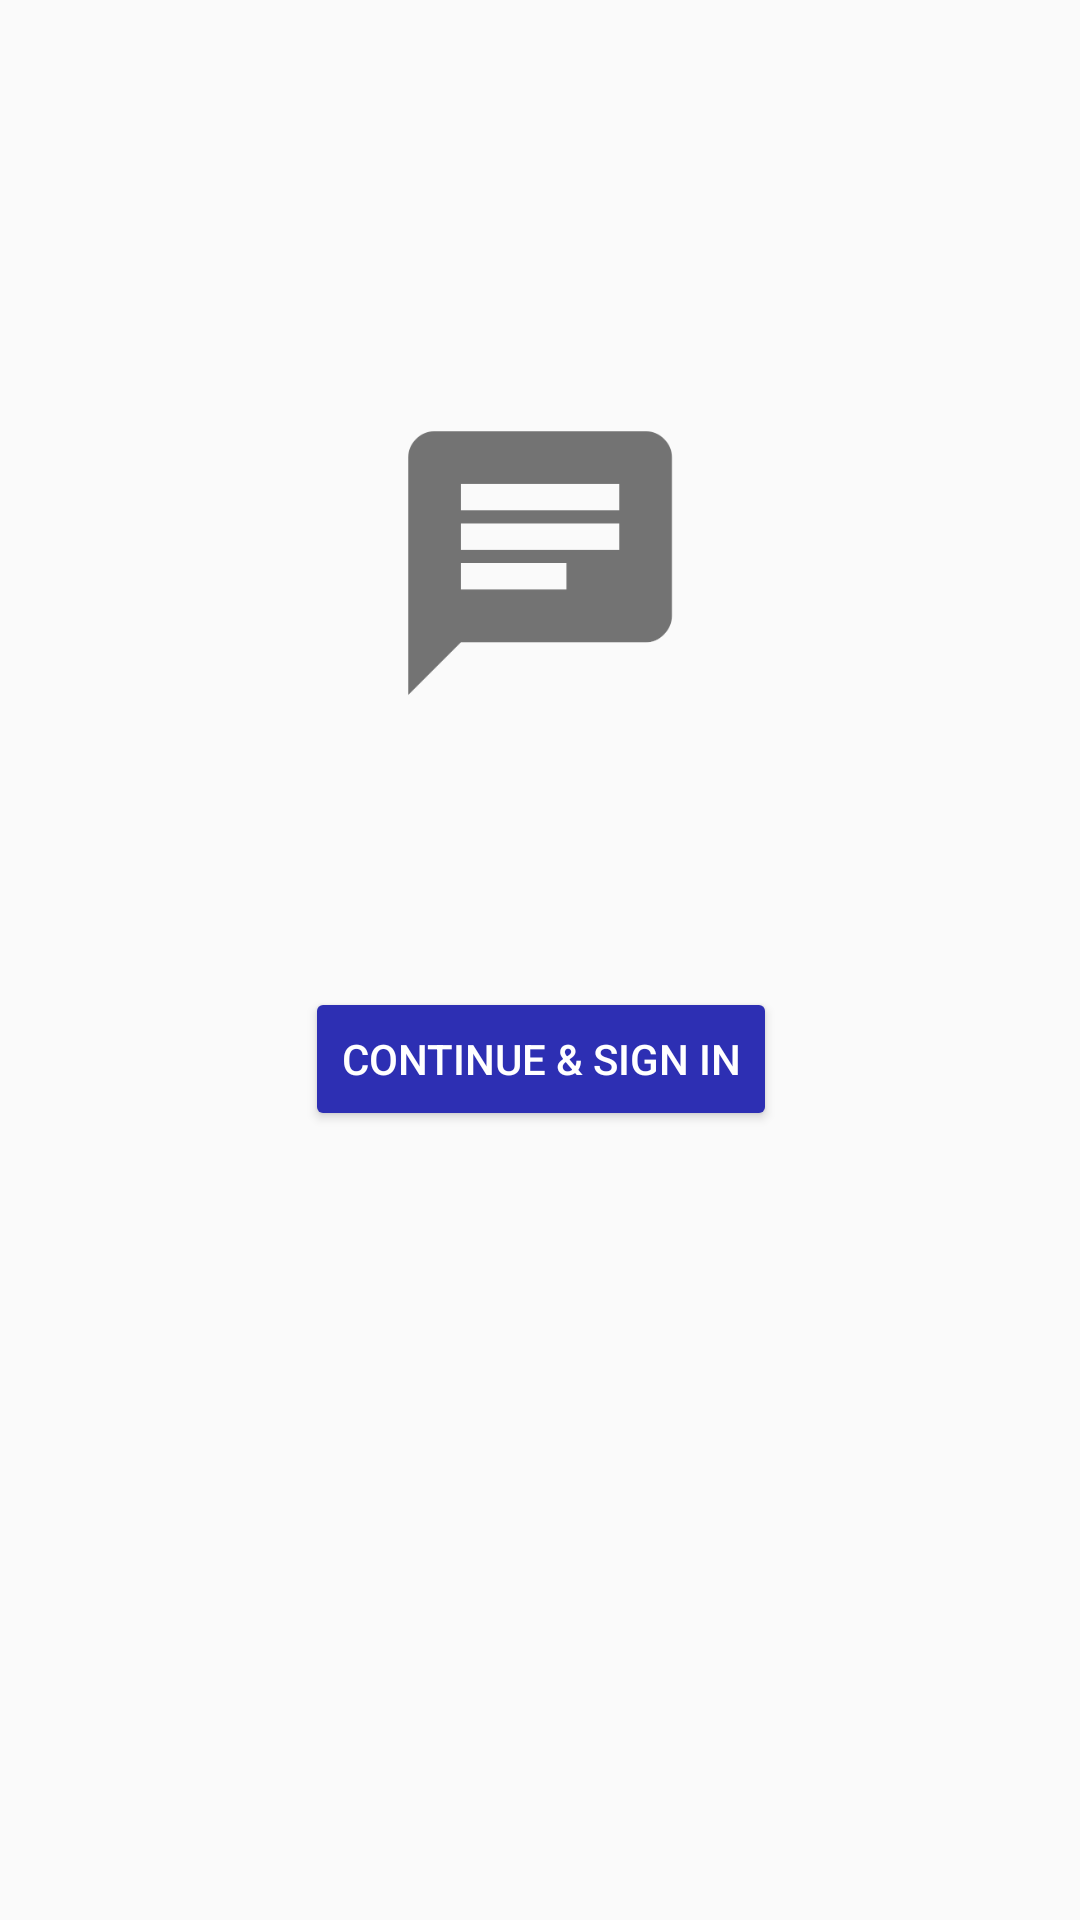

Named icons in this screenshot (1080px x 1920px) and their centers, point (x, y):
chat: point (540, 563)
